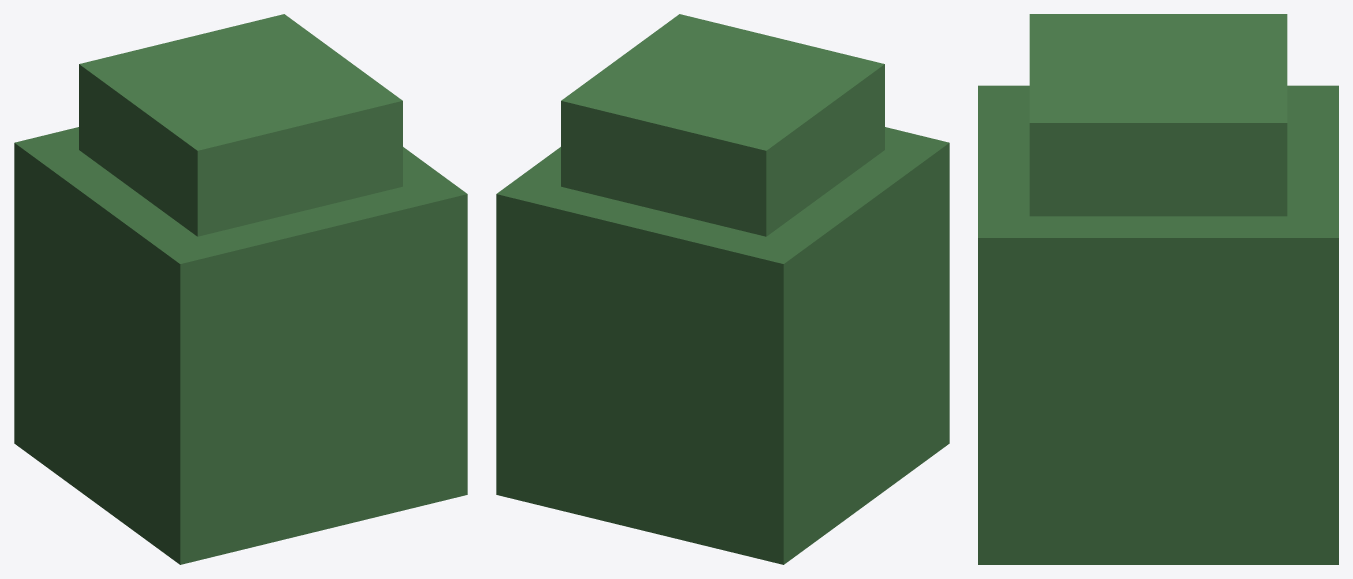
Rendered from acebo_01.glb.
3 renders of one model, left to right at view 1: azimuth 30°, elevation 25°; view 2: azimuth 150°, elevation 25°; view 3: azimuth 270°, elevation 25°, orthographic. The views are drawn at different scales.
Parts seen in each view (by area): view 1: acebo_01; view 2: acebo_01; view 3: acebo_01.
Boxes of the visible parts, box(x1,y1,x2,y2) form: acebo_01: box(14, 14, 467, 564); acebo_01: box(496, 14, 949, 564); acebo_01: box(978, 14, 1338, 564).
Bounding box in the file's own units: 0.7 × 0.9 × 0.7.
